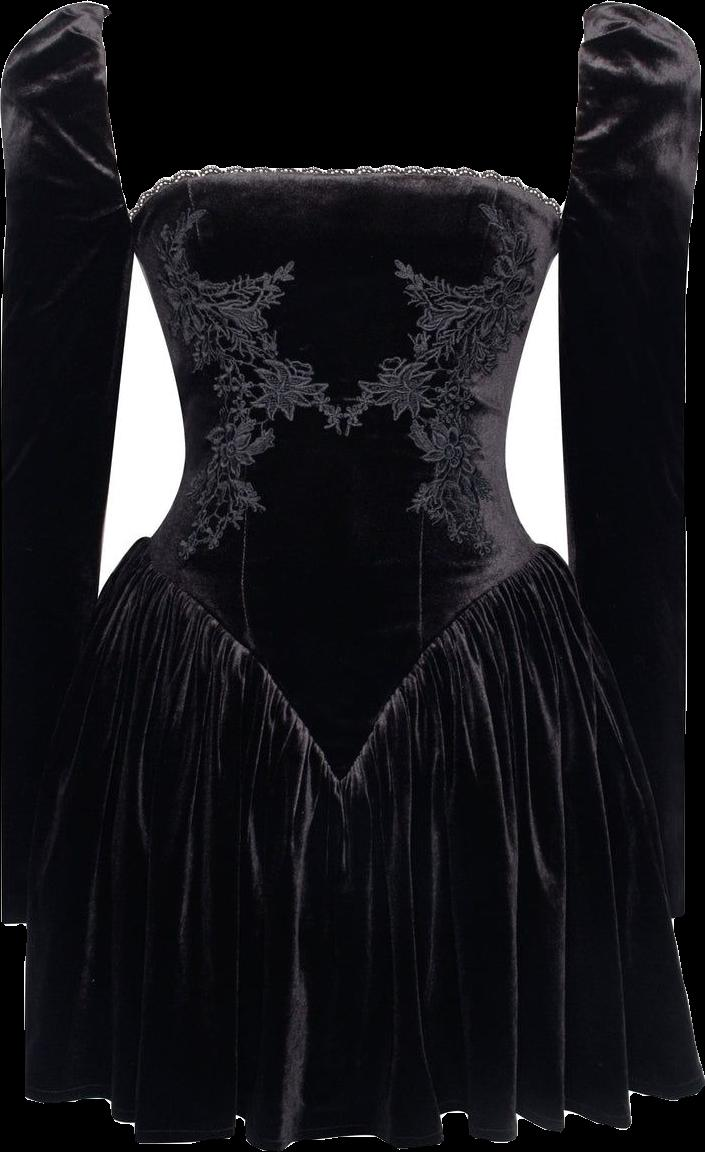Bodice: (131, 166, 561, 781)
Hemline: (23, 1075, 704, 1150)
Neckline: (123, 158, 566, 236)
Skirt: (24, 524, 703, 1149)
Sleeve: (556, 2, 701, 919), (1, 1, 138, 926)
Sleeveline: (94, 4, 139, 234), (555, 0, 602, 220)
Waistline: (138, 536, 345, 797), (338, 545, 546, 791)
